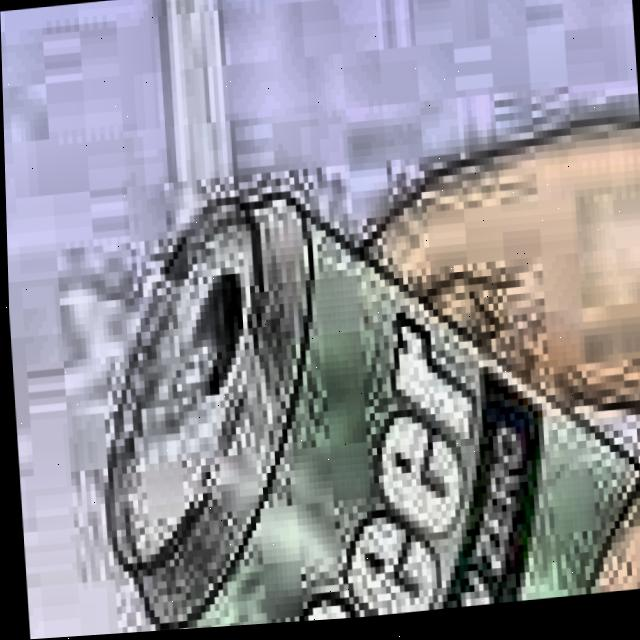metal: (74, 156, 640, 636)
